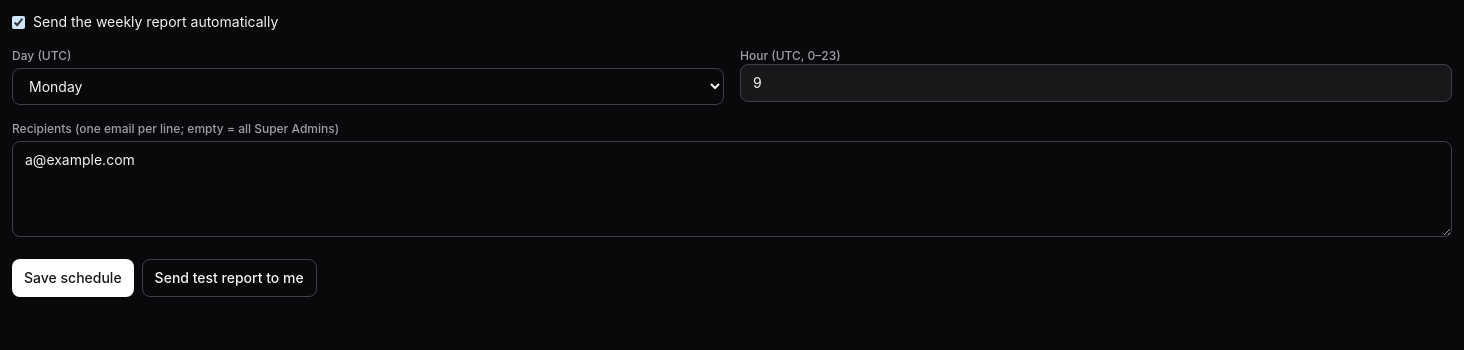
ReportScheduleForm › sends a test report and shows who it went to
The width and height of the screenshot is (1464, 350).
Step 1. Click the button "Send test report to me" → (229, 278), box [142,259,317,297]
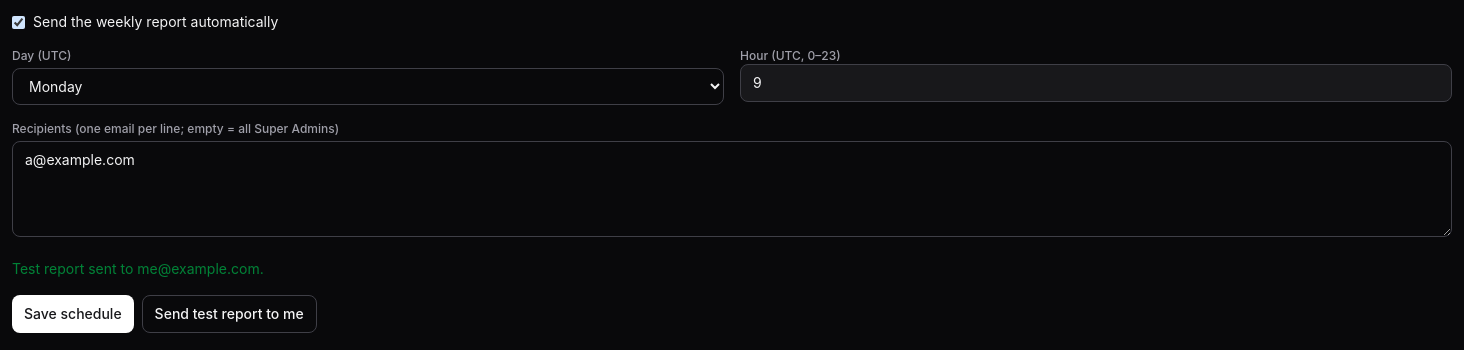
Expected: the text "Test report sent to me@example.com." is shown, [12,260,264,277]
